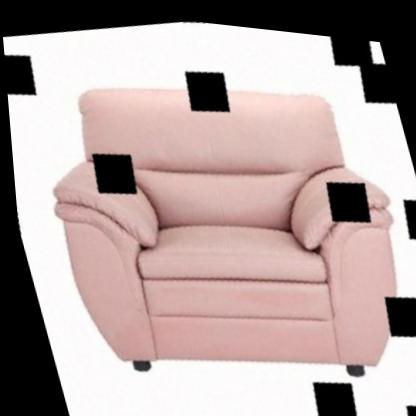Sofa: (14, 23, 416, 416)
